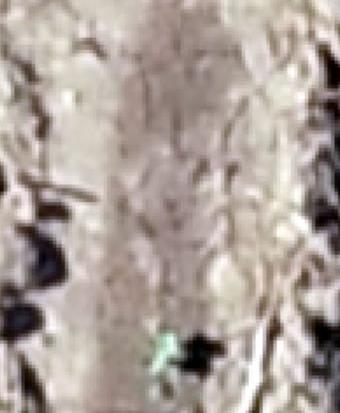cotton: (155, 334, 181, 364)
